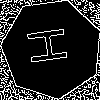H: (26, 24, 78, 66)
